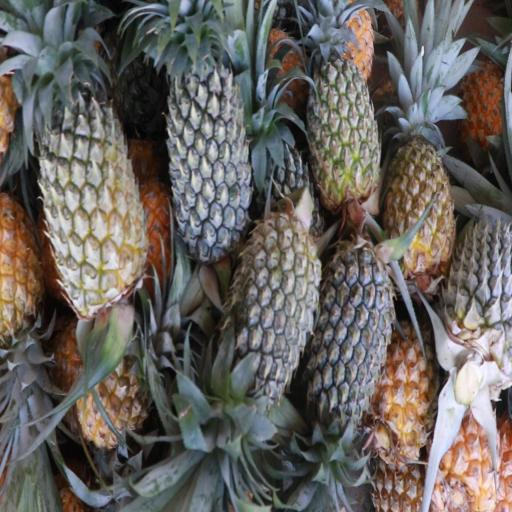------------------------------: (39, 75, 140, 304), (306, 32, 381, 210)
Pineapple - v8 v1: (80, 319, 186, 449), (384, 98, 456, 279), (0, 192, 46, 398), (376, 322, 440, 463)
